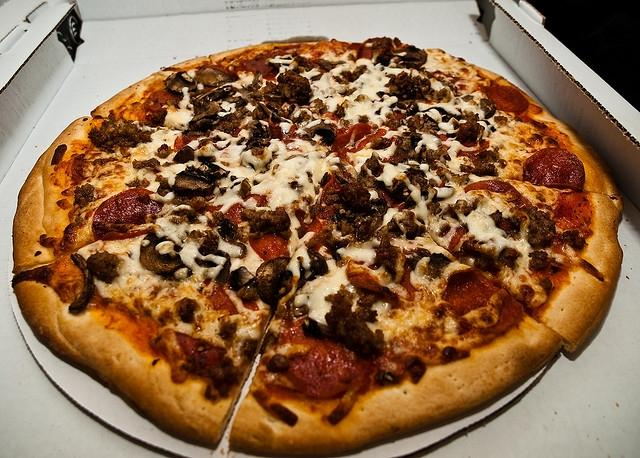mushroom: (256, 256, 290, 307), (139, 233, 182, 273), (69, 253, 95, 313), (173, 170, 216, 196), (188, 84, 236, 106), (304, 119, 336, 147), (193, 68, 236, 88), (354, 212, 382, 242), (393, 45, 428, 67), (163, 71, 197, 93), (194, 114, 222, 128), (478, 98, 496, 119), (416, 78, 428, 92), (452, 118, 459, 130)
